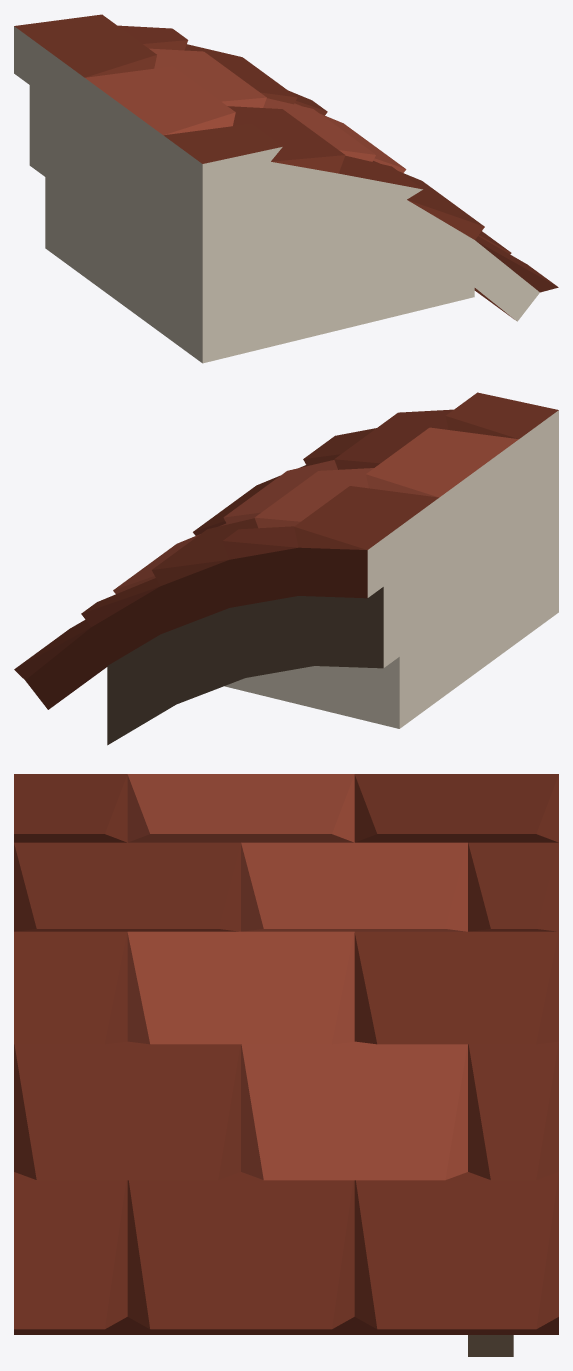
The model's file is Roof_Convex_Side_Eave_Edge.obj.
The picture shows the model from 3 angles, top to bottom: view 1: azimuth 30°, elevation 25°; view 2: azimuth 150°, elevation 25°; view 3: azimuth 270°, elevation 25°; orthographic projection. The views are drawn at different scales.
Parts seen in each view (by area): view 1: object1; view 2: object1; view 3: object1.
Part boxes in pixels (x1,y1,x2,y2): object1: (14,14,558,363); object1: (14,392,558,745); object1: (14,774,558,1356).
Size of the model in its own units: 1.31 by 0.9495 by 1.2.
